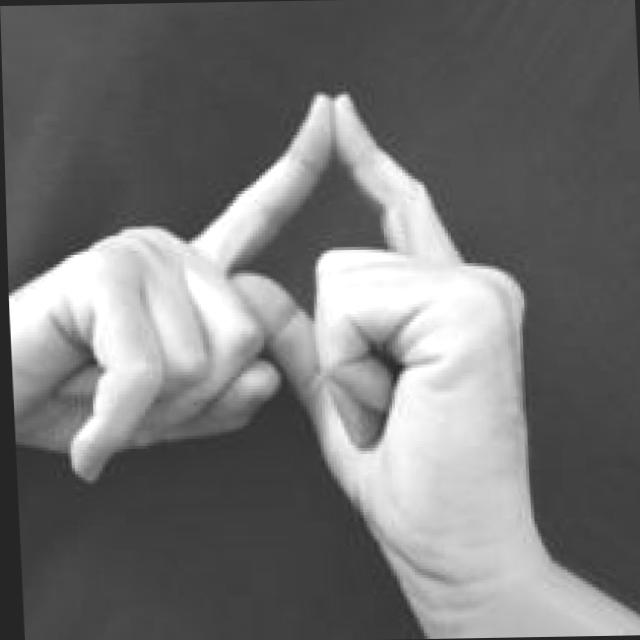D: (2, 82, 540, 640)
